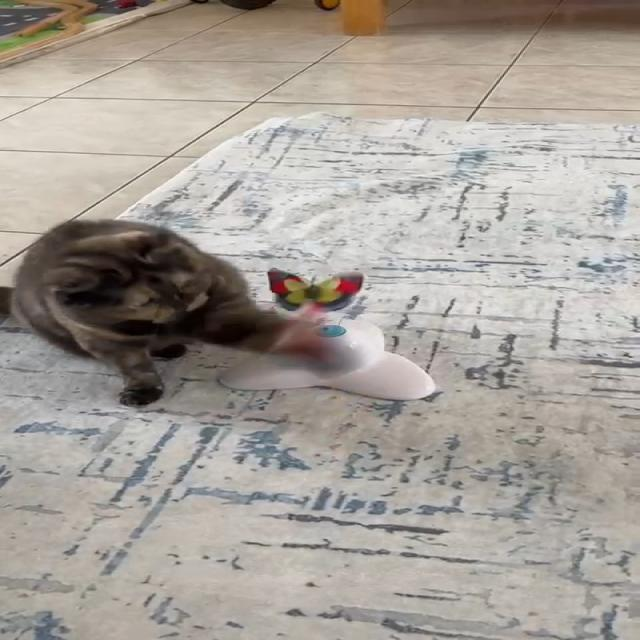authorized: (0, 217, 321, 406)
